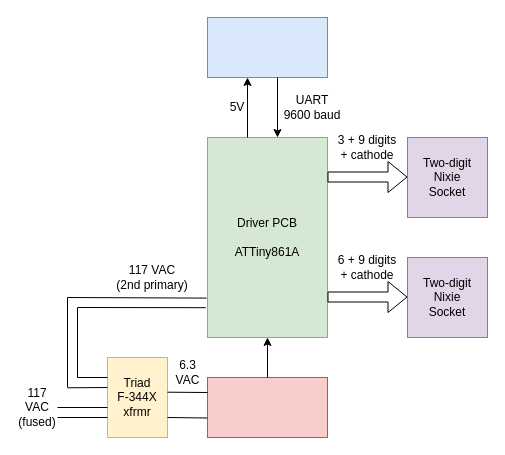
The diagram is 505 pixels wide and 455 high, and some of its shapes have lost their labels. Each missing label, with the centre of its shape:
"5V power supply" goes at point (267, 407).
"ESP8266 D1 Mini" goes at point (267, 47).
